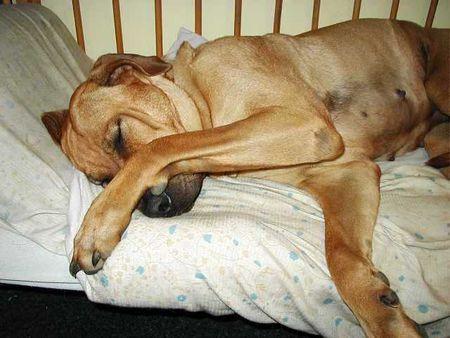tosa_inu: (38, 16, 450, 338)
